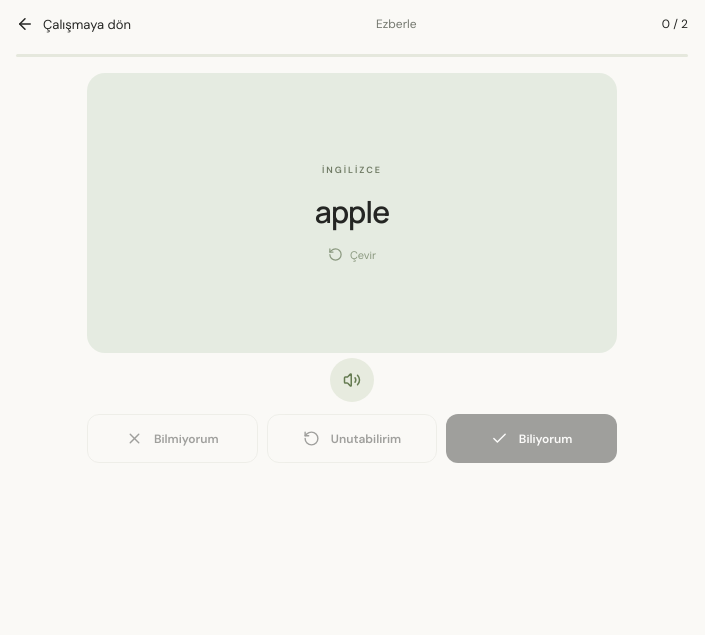
Test: study flows › a failed save stays on the same card and retries once successfully
Click the button with aria-label "Türkçe anlamı göster": (352, 213) [87,73,617,353]
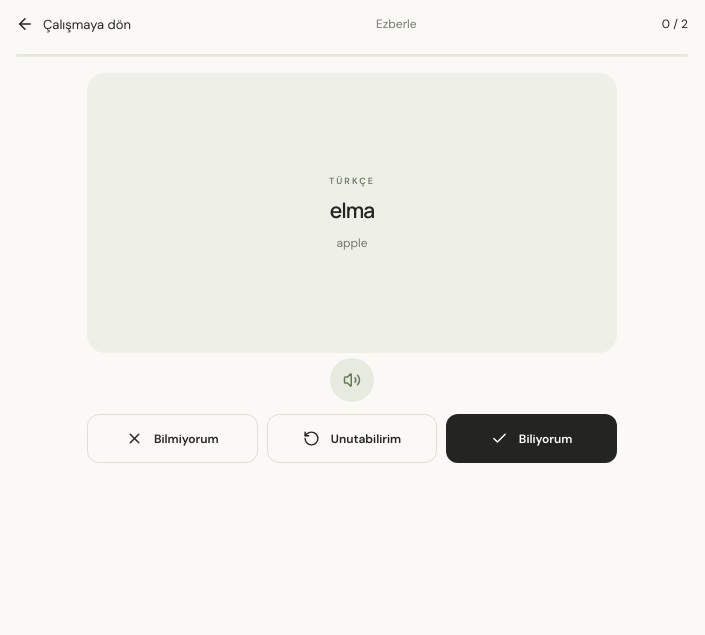
Click the button "Bilmiyorum": (172, 438) [87,414,258,463]
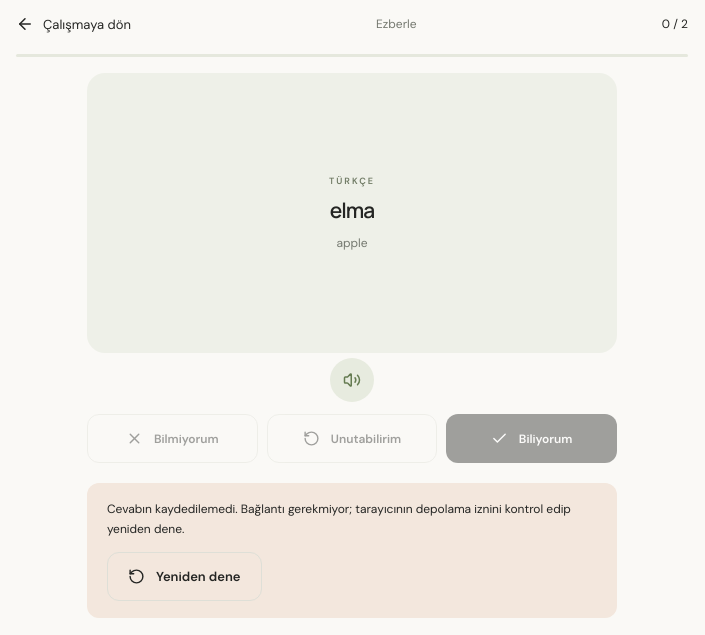
Expected: the text "0 / 2" is shown, [662,16,688,32]
Result: the message is shown at [87,483,617,618]
Click the button "Yeniden dene": (184, 576) [107,552,262,601]
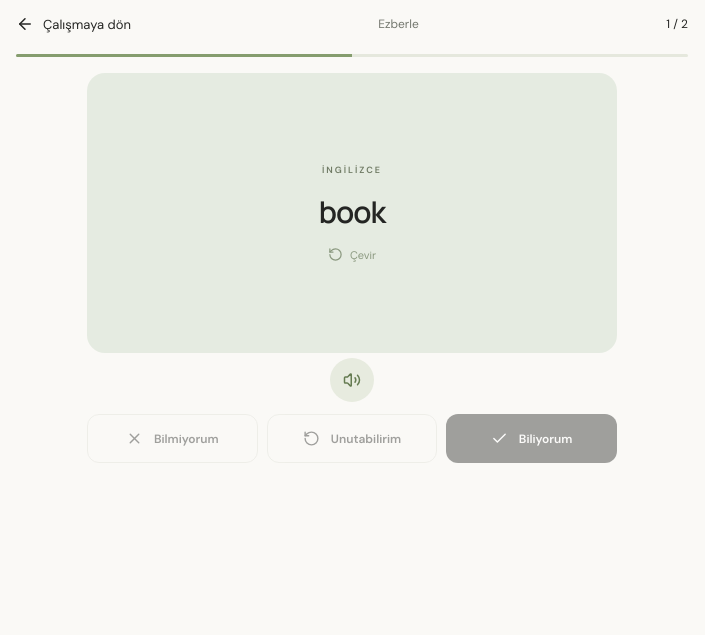
Result: the text "1 / 2" is shown at [666,16,688,32]
